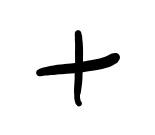plus: (33, 29, 120, 107)
